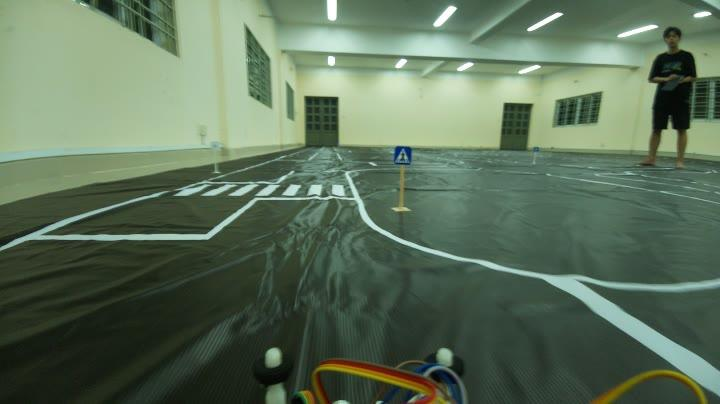crosswalk: (388, 142, 413, 170)
